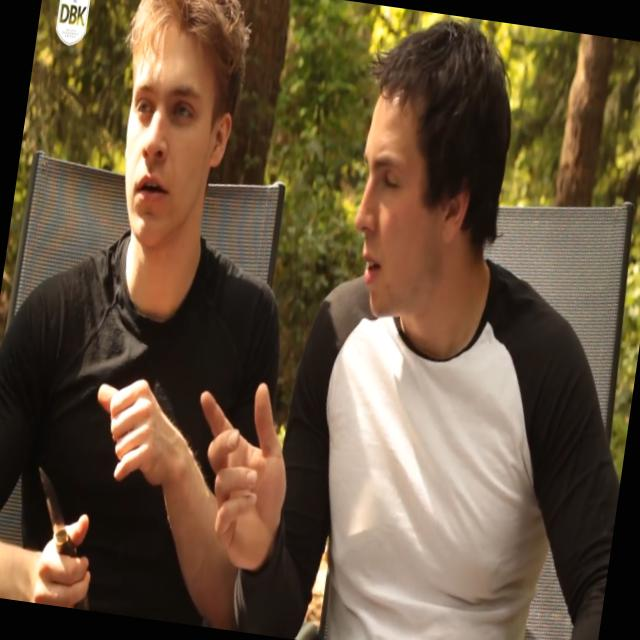knife: (12, 442, 112, 610)
